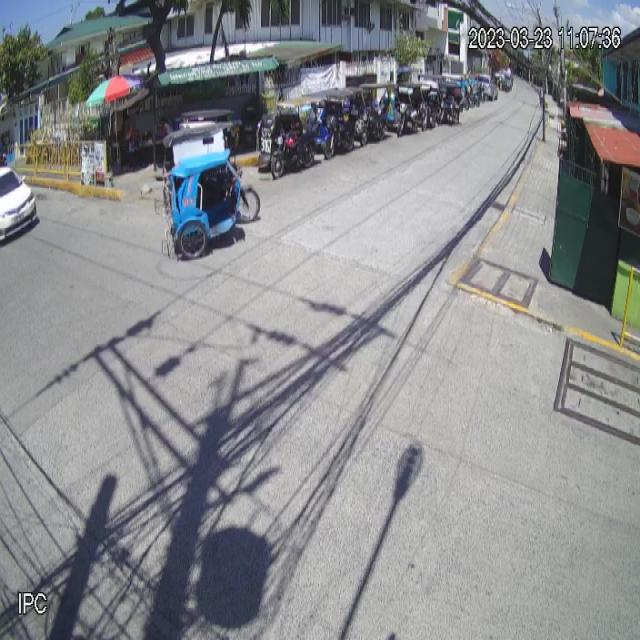Tricycle: (152, 115, 260, 261)
